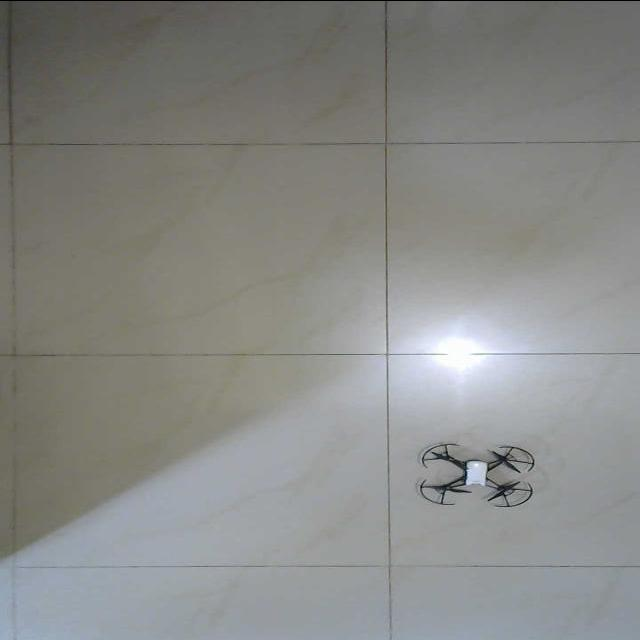drone: (420, 441, 537, 506)
